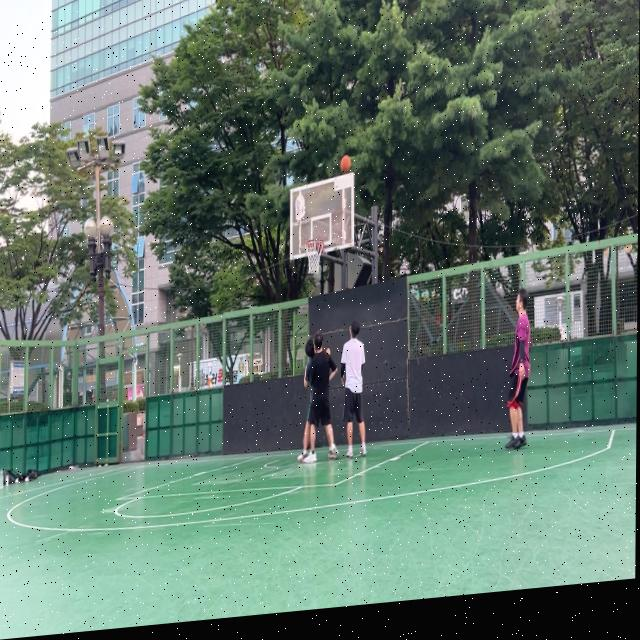basketball: (340, 154, 351, 174)
hoop: (303, 237, 325, 276)
